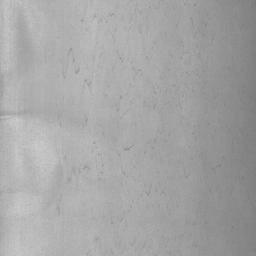Silk spot: (72, 165, 90, 174)
